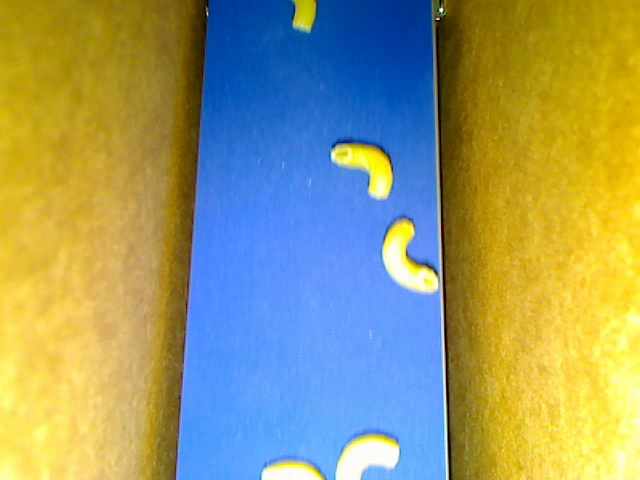elbow: (381, 217, 438, 294), (330, 142, 393, 199), (335, 434, 400, 479), (260, 459, 325, 479), (290, 1, 316, 32)
